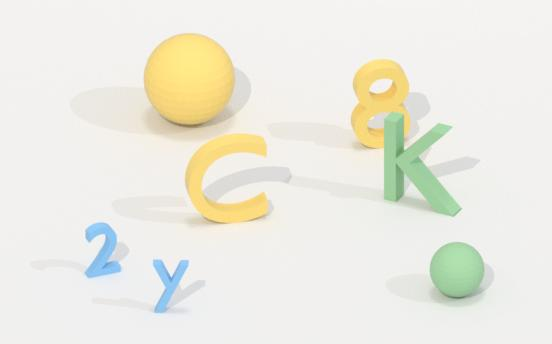2: (80, 216, 126, 287)
Y: (149, 252, 194, 320)
c: (185, 129, 275, 226)
cau: (142, 30, 239, 129), (427, 238, 487, 307)
e: (351, 53, 411, 152)
k: (381, 107, 466, 222)
